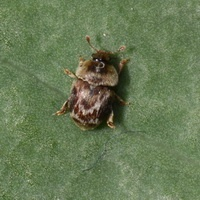insect: (53, 36, 129, 129)
